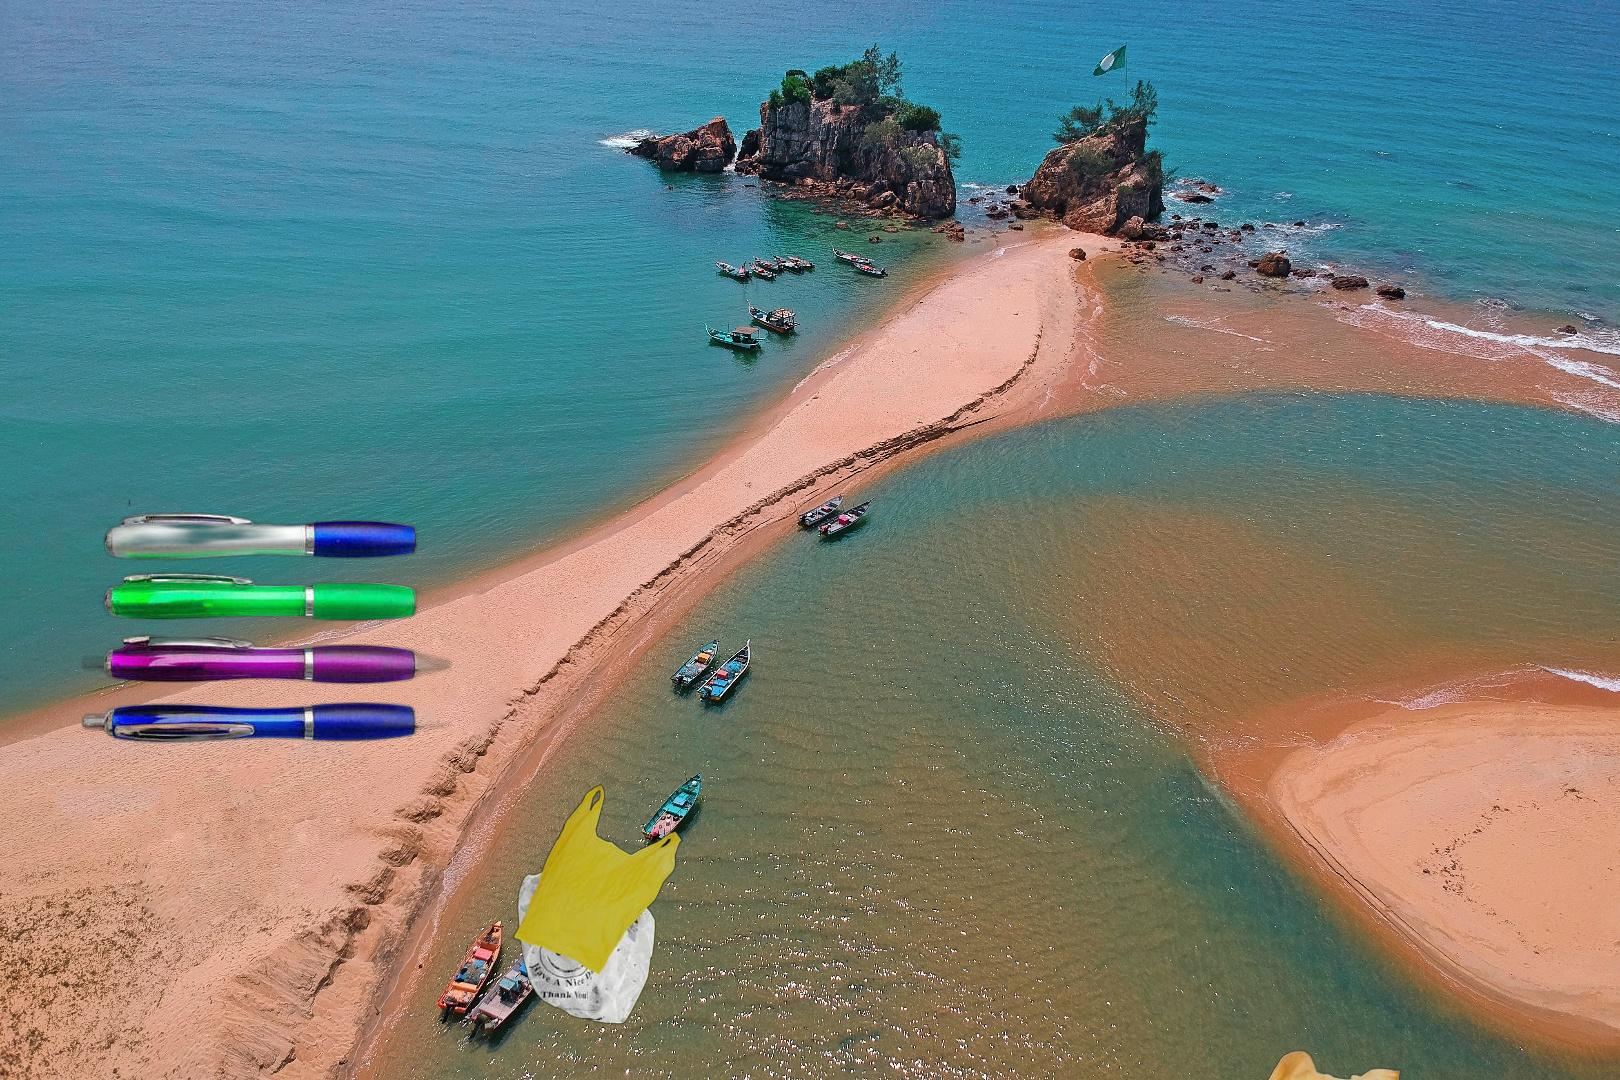penholder: (306, 785, 1096, 1080), (80, 497, 454, 745)
plastic-bag: (511, 782, 683, 1025), (1254, 1047, 1498, 1080)
